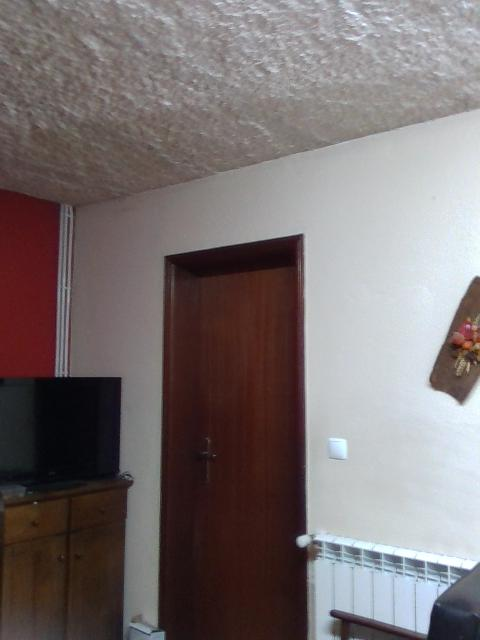door: (174, 258, 296, 640)
